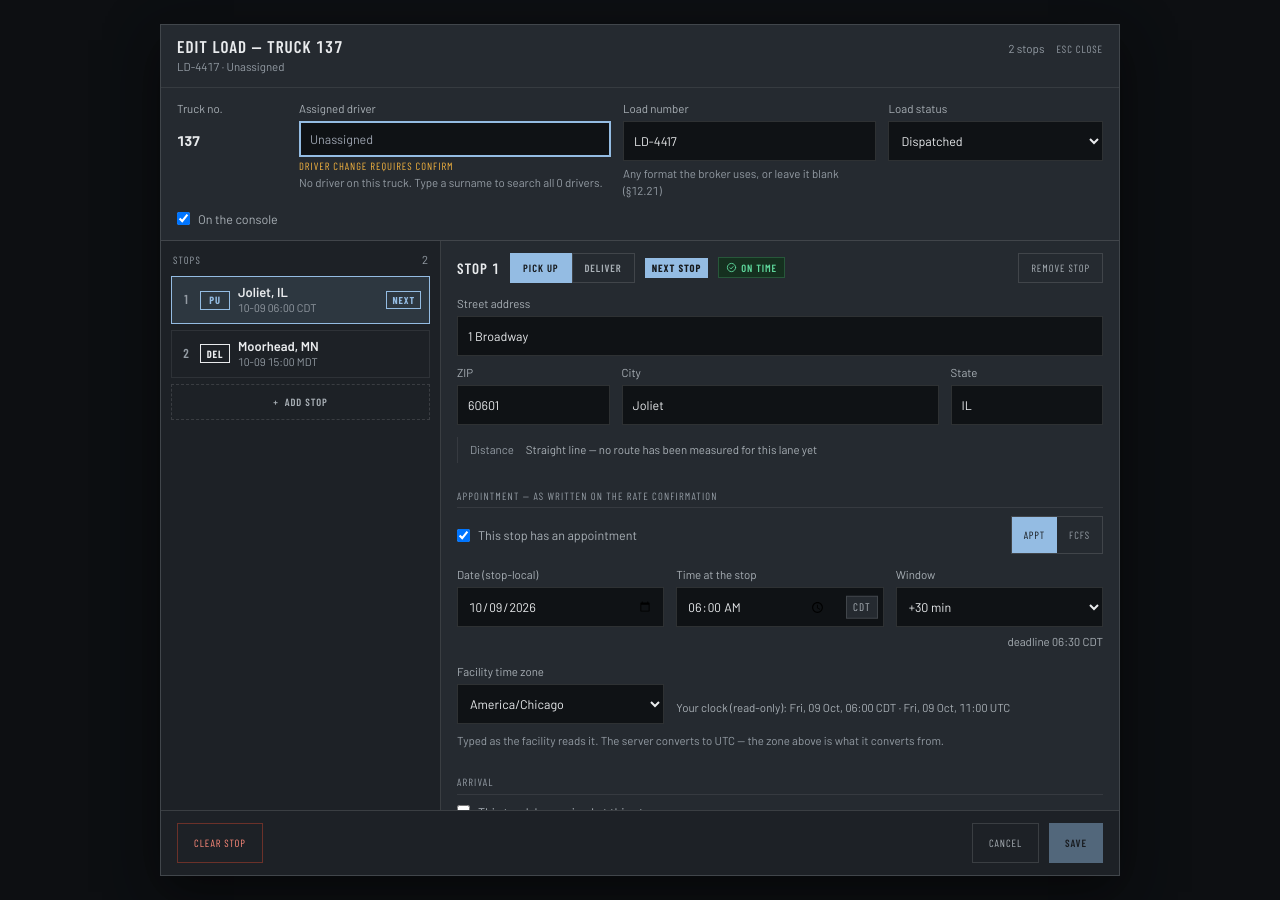
Test: a saved stop keeps its stored zone (§12.120) › opens on it, unchanged and not dirty, whatever its state says
What coordinates should you click on to do the following:
click the tab "2 DEL Moorhead, MN 10-09 15:00 MDT"
I would click on:
 (300, 354)
Its box is x1=171 y1=330 x2=430 y2=378.
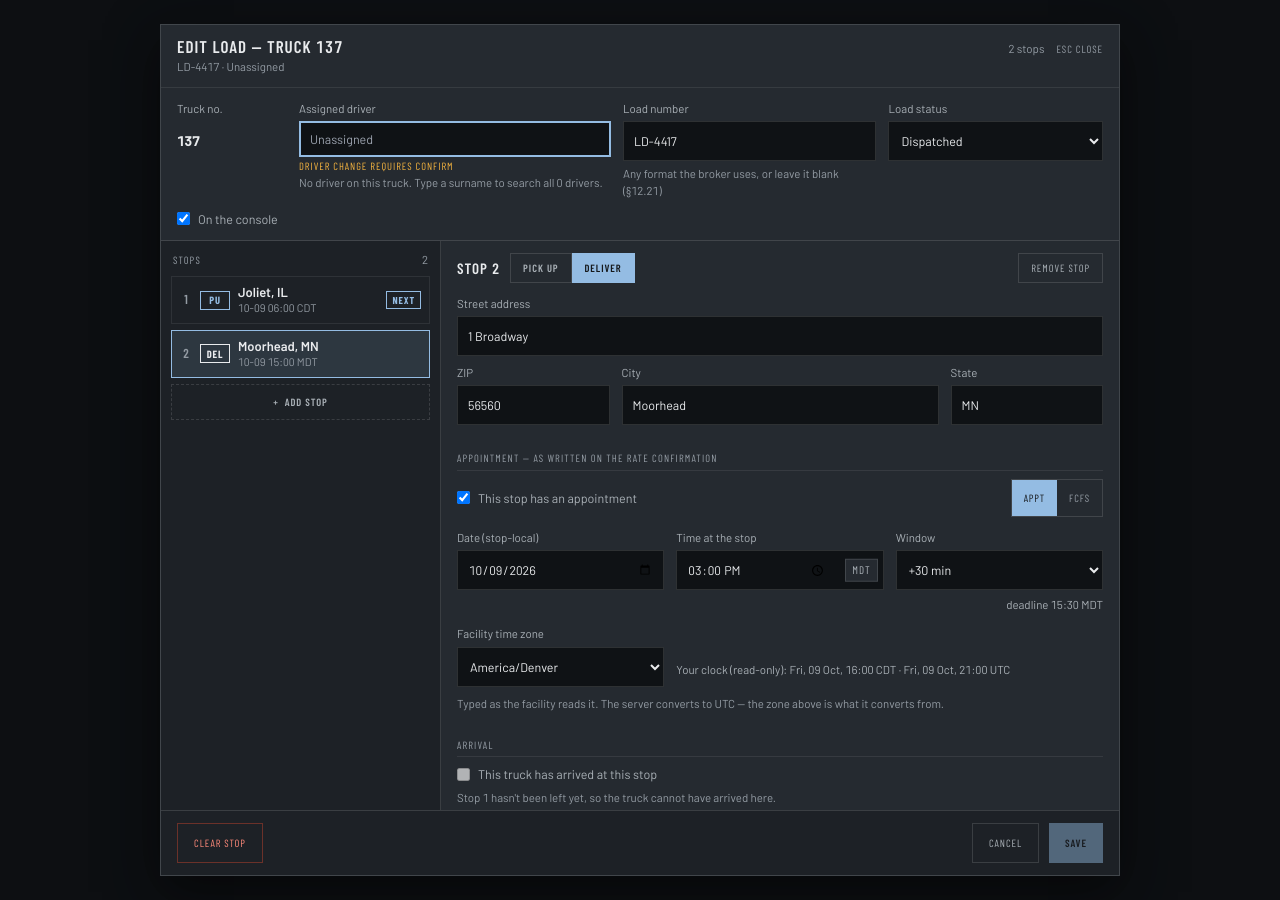
Expected: the button "Save" is disabled, x1=1049 y1=823 x2=1103 y2=863
Result: the dropdown labelled "Facility time zone" shows "America/Denver" at x1=457 y1=647 x2=664 y2=687
